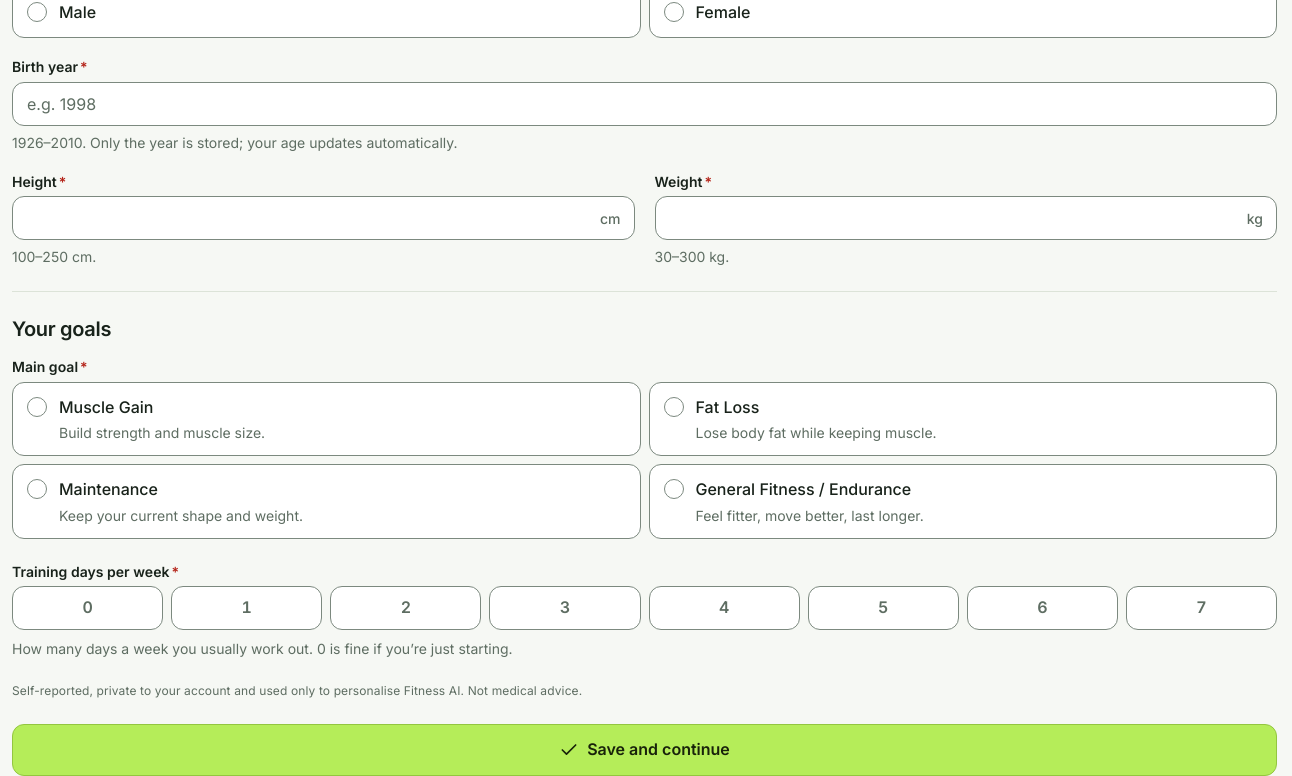
OnboardingForm (existing accounts) › requires every field and focuses the first problem
(page scrolled)
What coordinates should you click on to do the following:
click the button "Save and continue"
I would click on:
 (644, 750)
Its box is x1=12 y1=724 x2=1277 y2=775.
(page scrolled)
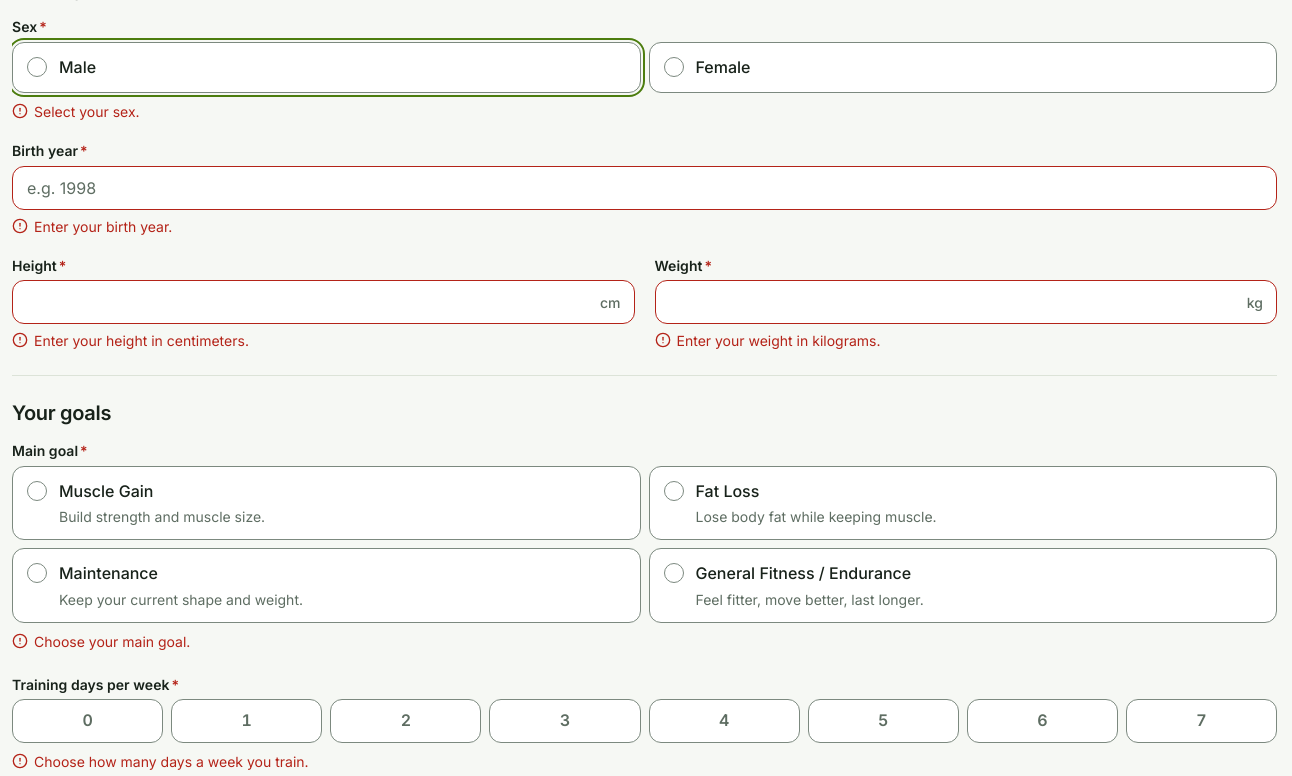
Check: the text "Select your sex." is shown, box x1=34 y1=101 x2=140 y2=122
Check: the text "Enter your birth year." is shown, box x1=34 y1=216 x2=172 y2=237
Check: the text "Enter your height in centimeters." is shown, box x1=34 y1=330 x2=249 y2=351
